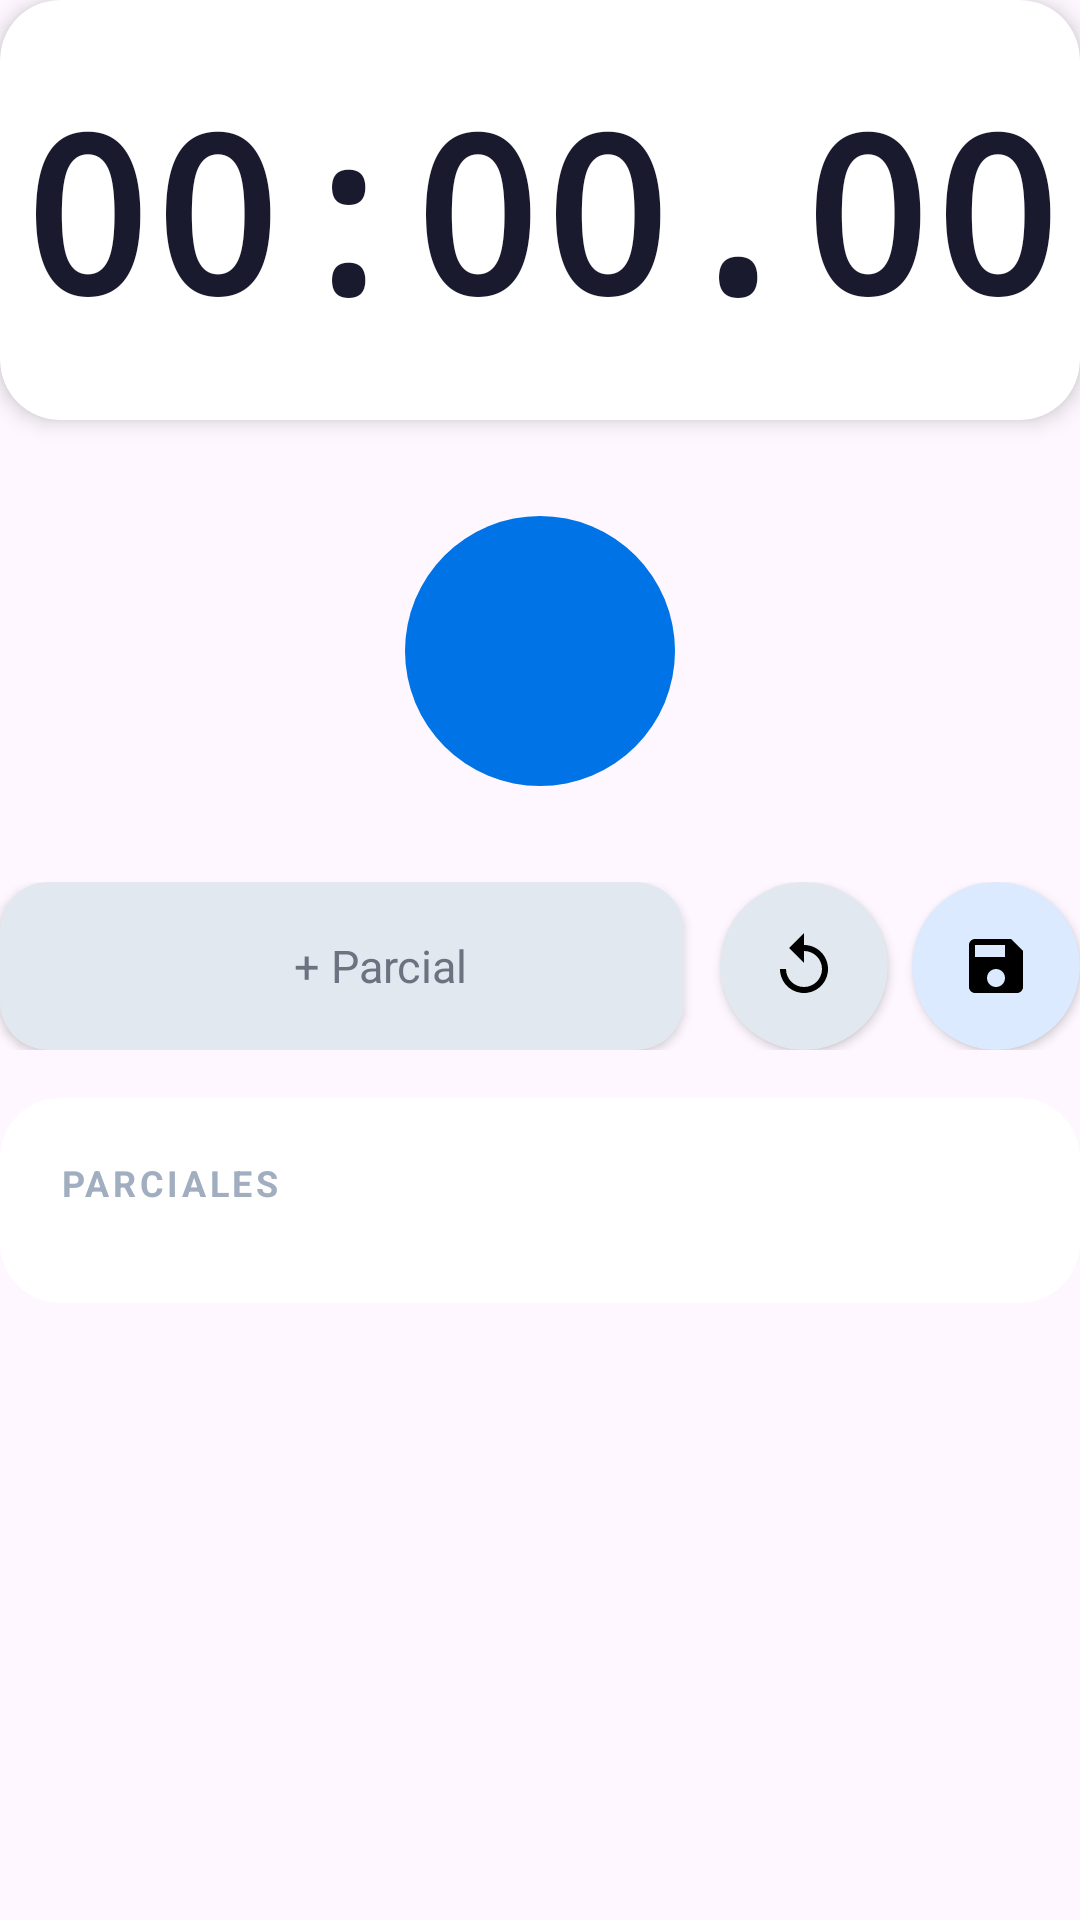

Screen size 1080 × 1920. Icon name, then its box in pixels as (x1, y1, x2, y2):
Guardar tiempo: (912, 882, 1080, 1050)
Reiniciar: (720, 882, 888, 1050)
